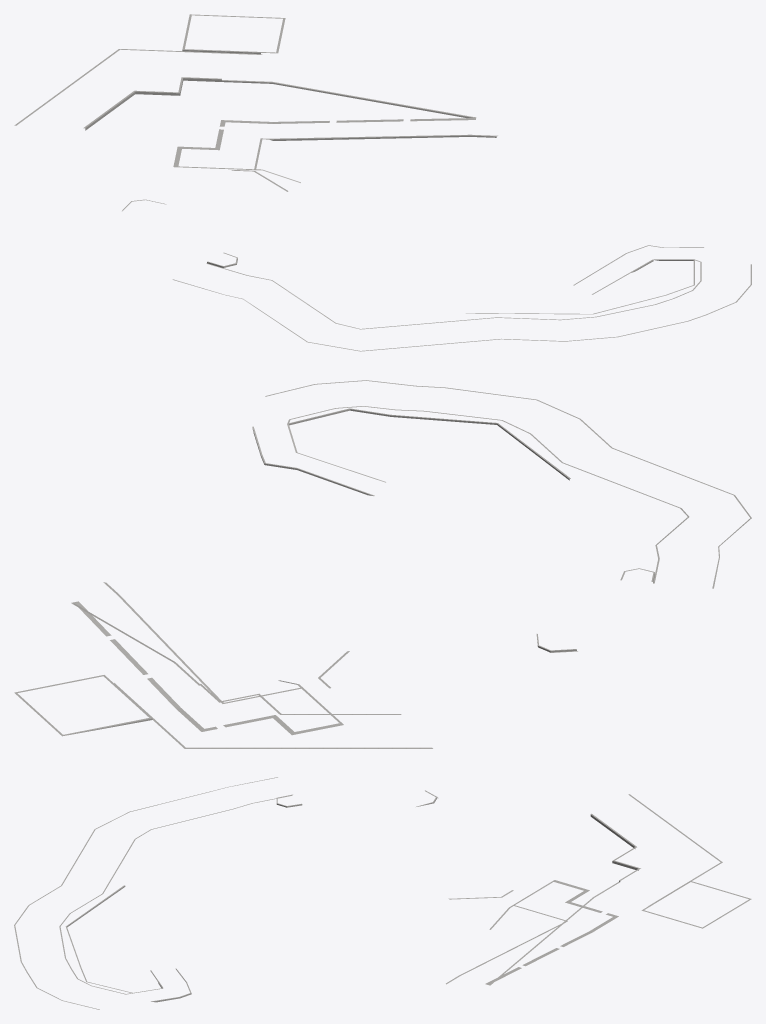
File: kd_stage_135ebf_2_4.glb
The picture shows the model from 3 angles, top to bottom: view 1: azimuth 30°, elevation 25°; view 2: azimuth 150°, elevation 25°; view 3: azimuth 270°, elevation 25°; orthographic projection. The views are drawn at different scales.
Parts seen in each view (by area): view 1: kd_stage_135ebf_2_4; view 2: kd_stage_135ebf_2_4; view 3: kd_stage_135ebf_2_4.
Part boxes in pixels (left/top/right/bottom): kd_stage_135ebf_2_4: left=14, top=14, right=751, bottom=351; kd_stage_135ebf_2_4: left=14, top=380, right=751, bottom=748; kd_stage_135ebf_2_4: left=14, top=777, right=751, bottom=1009.
Bounding box in the file's own units: 79.2 × 8.2 × 119.
1 material, 1 textured.
